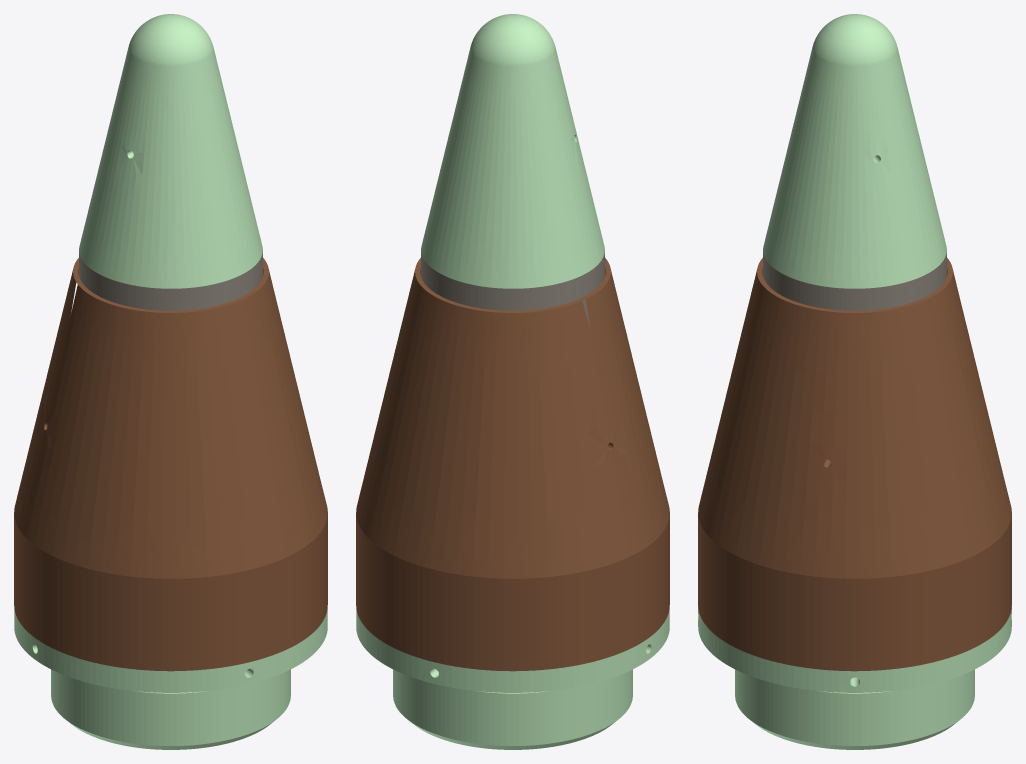
3 renders of one model, left to right at view 1: azimuth 30°, elevation 25°; view 2: azimuth 150°, elevation 25°; view 3: azimuth 270°, elevation 25°, orthographic.
Parts seen in each view (by area): view 1: МодельДВУ; view 2: МодельДВУ; view 3: МодельДВУ.
Part boxes in pixels (left/top/right/bottom): МодельДВУ: left=14, top=14, right=327, bottom=749; МодельДВУ: left=356, top=14, right=669, bottom=749; МодельДВУ: left=698, top=14, right=1011, bottom=749.
Size of the model in its own units: 78.5 by 189 by 78.5.
